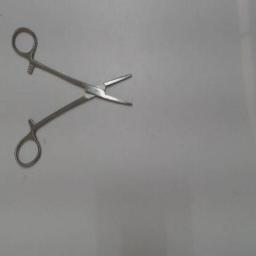Mayo Needle Holder: (9, 24, 141, 170)
